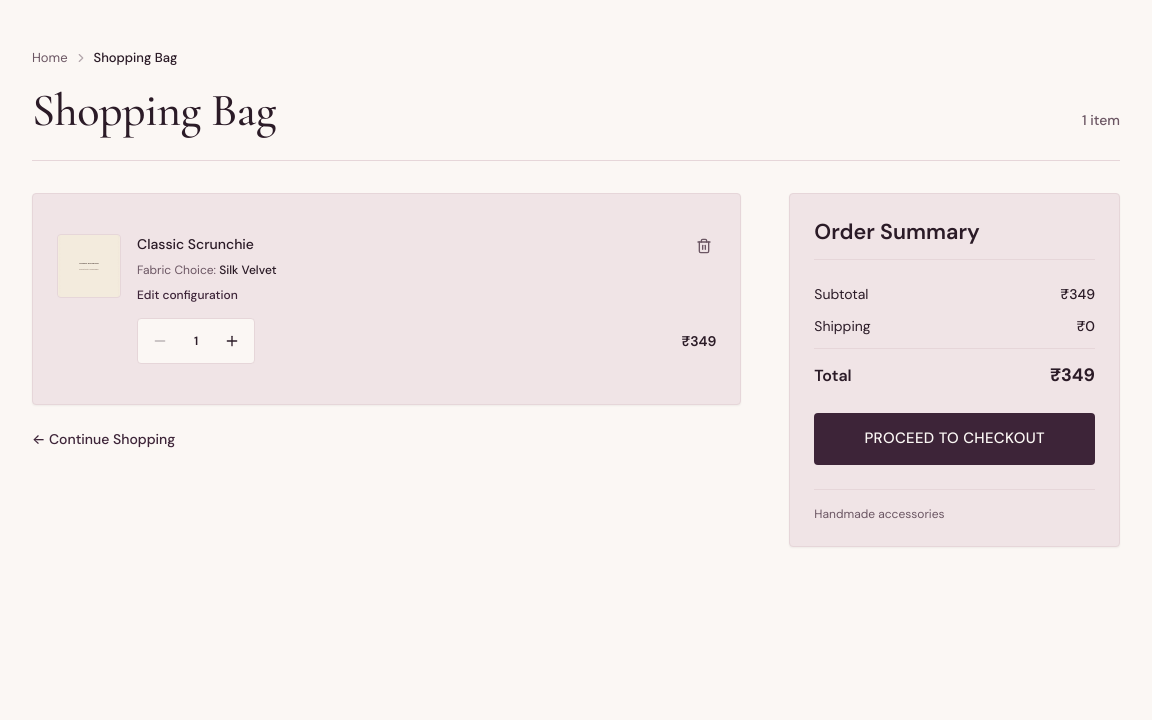
Test: FE-23: Cart page and edit configuration › clears unavailable option if previously chosen option is no longer available and tells customer
Click the button with test id "edit-config-btn-item-2": (187, 296) [137, 288, 238, 304]
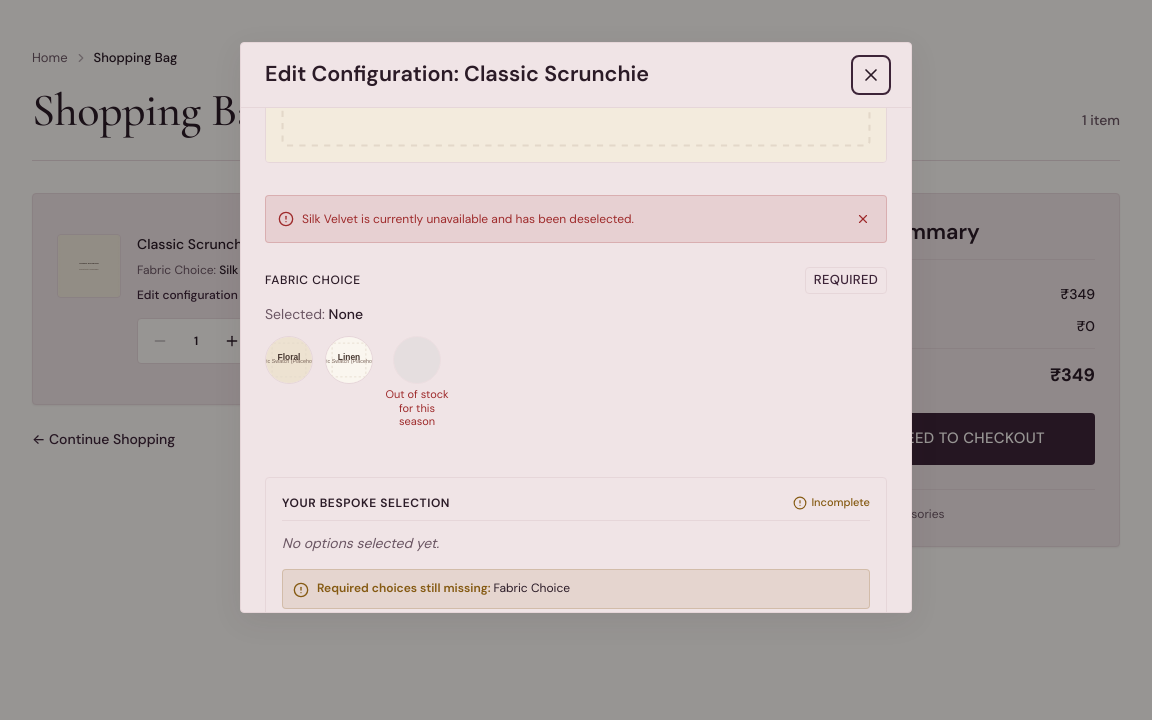
Expected: the element with test id "unavailable-notice" shows "Silk Velvet is currently unavailable and has been deselected", [302, 211, 634, 227]
